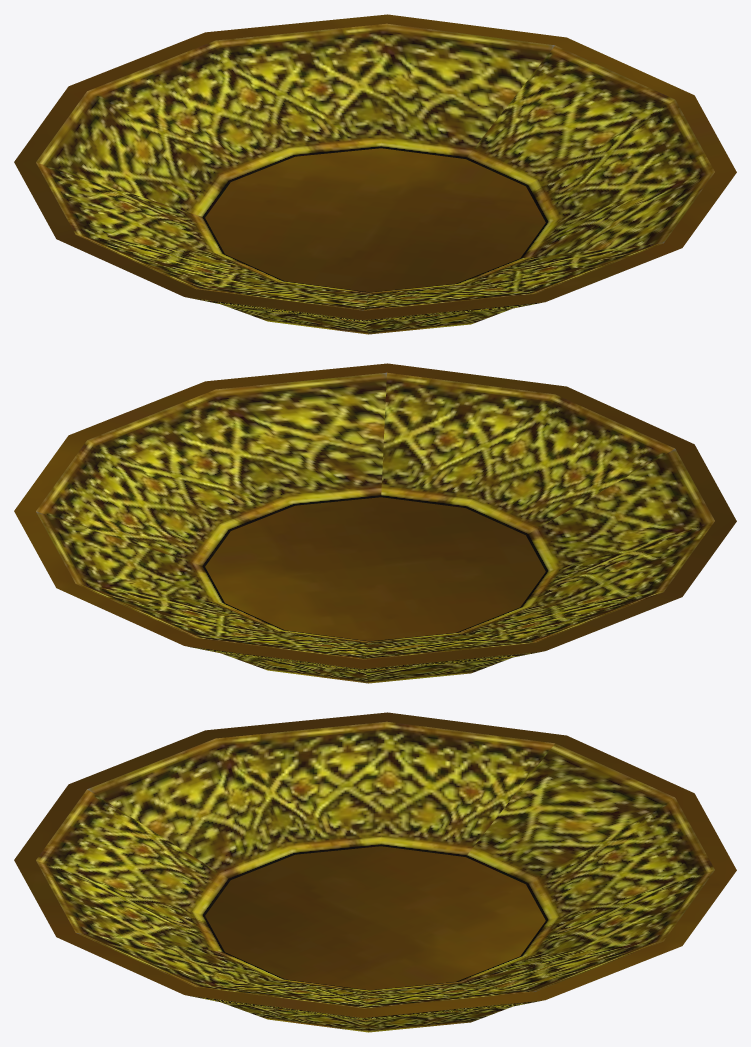
The model's file is GS_MISC_GOLDPLATE_01.glb.
3 views of the same model, one above another, from view 1: azimuth 30°, elevation 25°; view 2: azimuth 150°, elevation 25°; view 3: azimuth 270°, elevation 25° (orthographic).
Parts seen in each view (by area): view 1: GS_MISC_GOLDPLATE_01; view 2: GS_MISC_GOLDPLATE_01; view 3: GS_MISC_GOLDPLATE_01.
Boxes of the visible parts, <box> form: GS_MISC_GOLDPLATE_01: <box>14,14,736,334</box>; GS_MISC_GOLDPLATE_01: <box>14,363,736,683</box>; GS_MISC_GOLDPLATE_01: <box>14,712,736,1032</box>.
Bounding box in the file's own units: 0.3593 × 0.0446 × 0.3593.
Materials: 1 (1 with a texture image).
